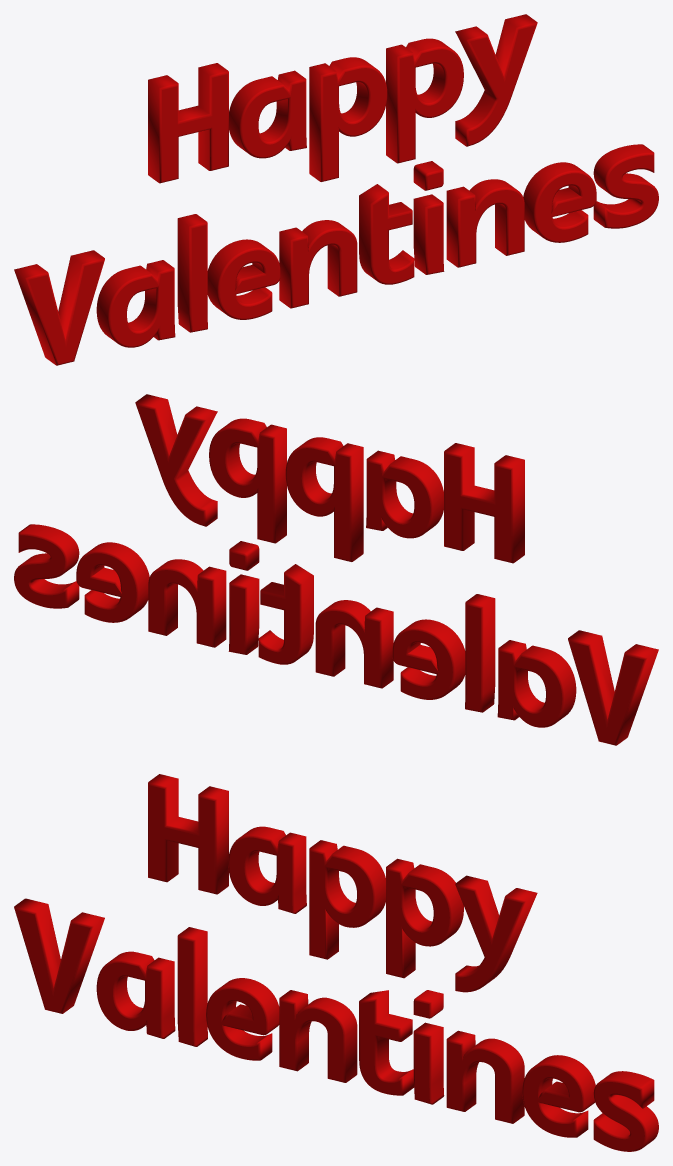
Rendered from Happy_Valentines.obj.
3 renders of one model, top to bottom at view 1: azimuth 30°, elevation 25°; view 2: azimuth 150°, elevation 25°; view 3: azimuth 330°, elevation 25°, orthographic.
Parts seen in each view (by area): view 1: HappyValentines; view 2: HappyValentines; view 3: HappyValentines.
Part boxes in pixels (<box>): HappyValentines: <box>14,14,658,365</box>; HappyValentines: <box>14,394,658,745</box>; HappyValentines: <box>14,774,658,1151</box>.
Size of the model in its own units: 16.88 by 6.45 by 0.6.
